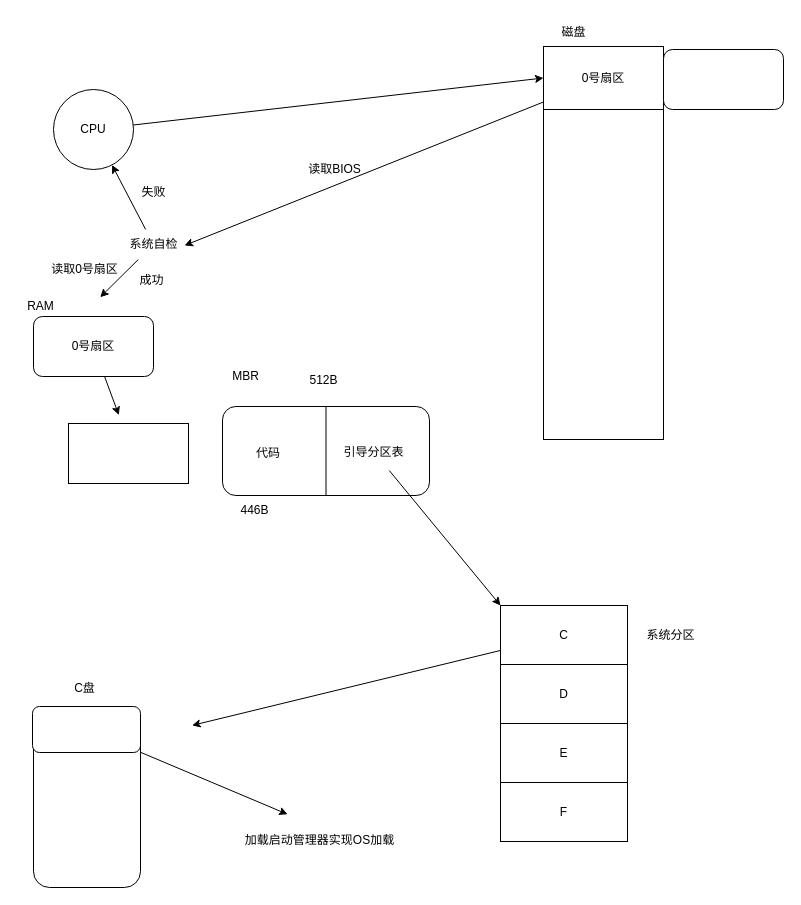
Image size: 801x905. Some labels were removed from this diagram. The shapes that lost their labels are listed below. From the top down, each one's centre as x and y in pixels, then its label:
point 723,79: 为ROM 存在 BIOS和MBR
point 128,453: 加载MBR
point 86,729: 第一个扇区加载
